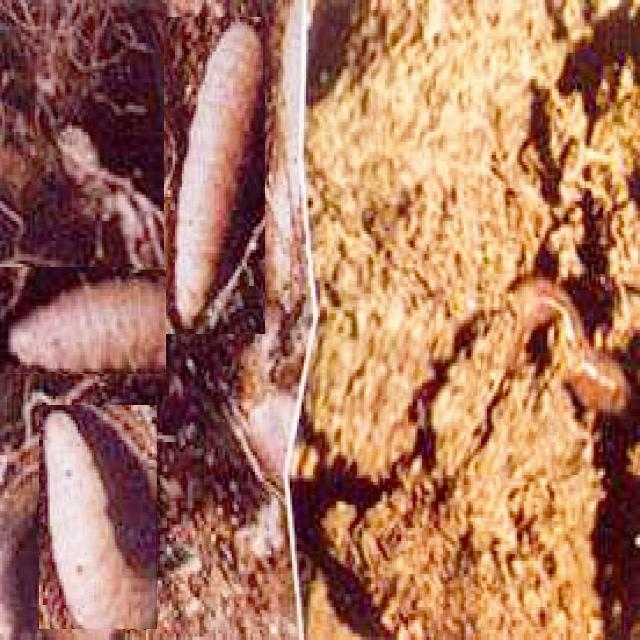whorl-maggot: (165, 18, 265, 334), (40, 406, 156, 628), (1, 267, 165, 373)
